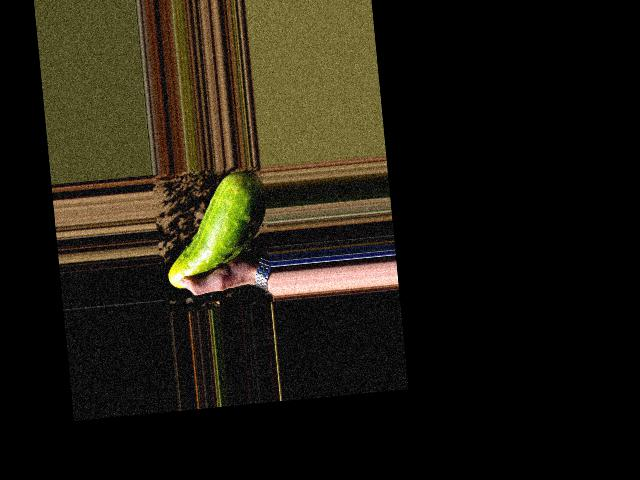cucumber: (159, 168, 273, 289)
